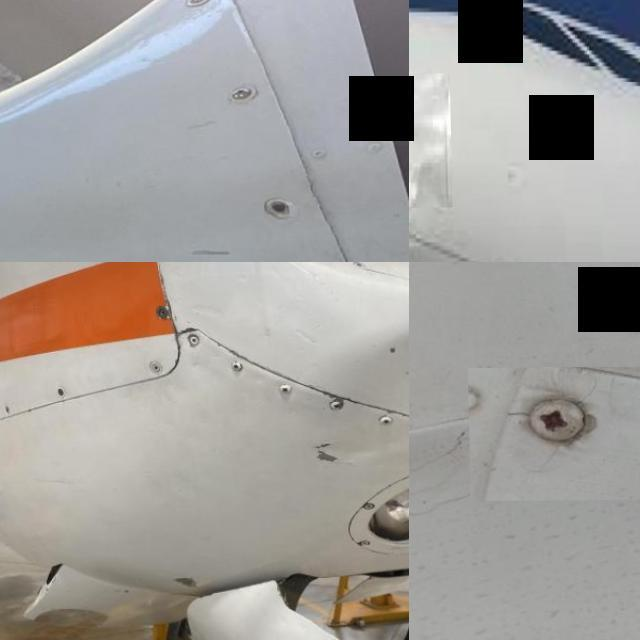Crack: (466, 365, 640, 501)
Dent: (409, 75, 449, 205), (188, 304, 223, 318), (292, 329, 318, 346), (278, 279, 298, 297), (268, 267, 282, 279), (303, 271, 318, 281), (288, 294, 306, 302), (236, 274, 248, 282), (317, 282, 327, 290), (296, 346, 306, 354), (356, 281, 364, 289), (280, 310, 290, 316), (358, 300, 366, 306), (328, 291, 334, 299), (315, 324, 323, 330), (321, 339, 329, 345), (300, 279, 308, 285), (355, 360, 361, 366), (344, 328, 353, 332), (287, 336, 293, 342), (357, 380, 362, 386), (262, 334, 268, 339)
Missing_Fastener: (262, 194, 302, 221)
